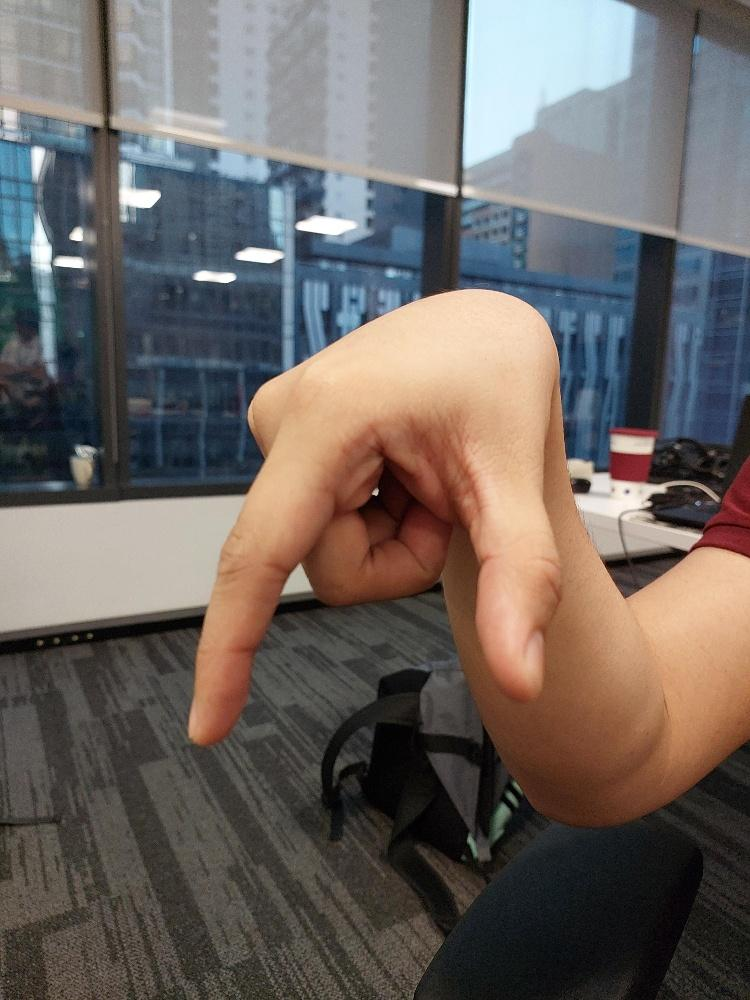q: (183, 285, 568, 754)
